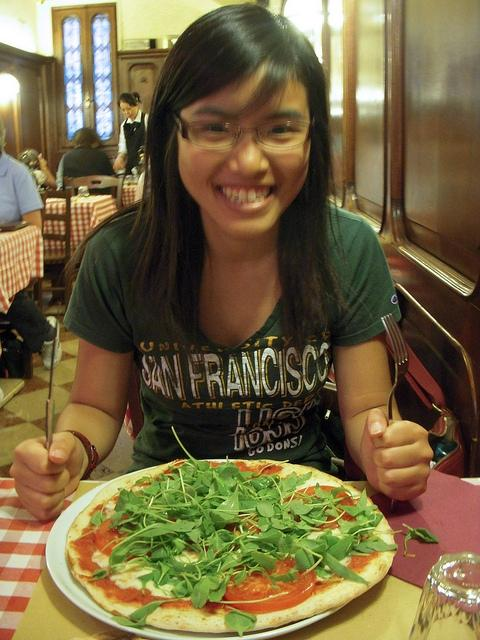tomato: (221, 556, 317, 613), (283, 486, 355, 532), (94, 515, 152, 561), (212, 462, 222, 468)
